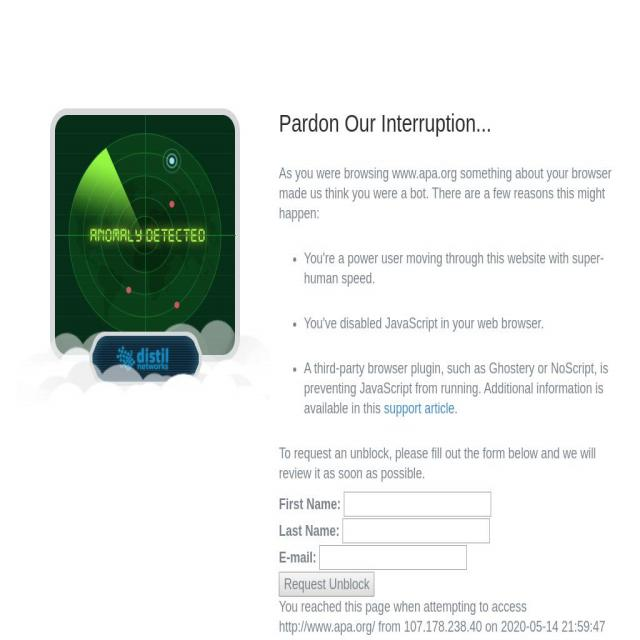form: (273, 478, 497, 598)
